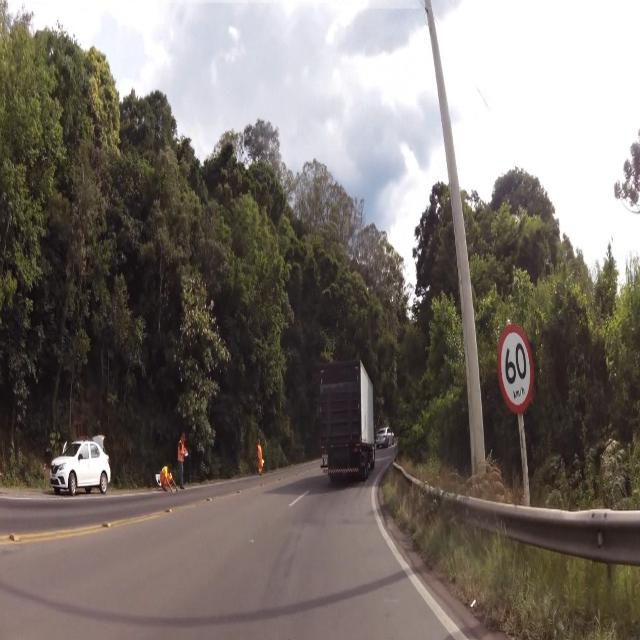R-19: (496, 315, 542, 420)
